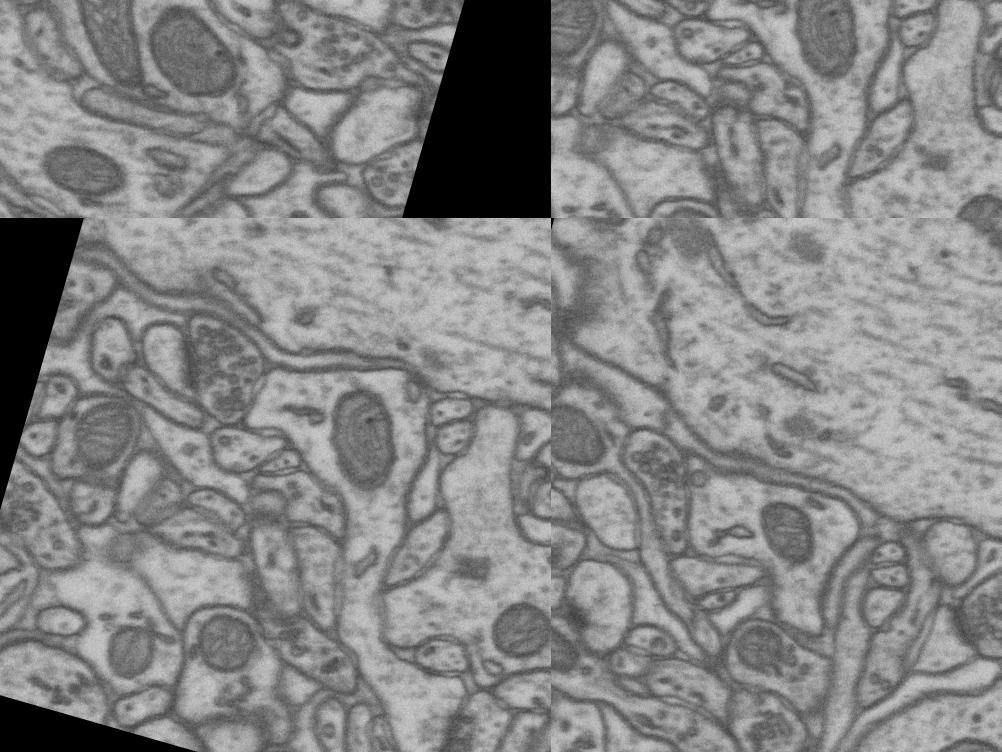mitochondria: (298, 363, 425, 510), (45, 0, 194, 101), (130, 0, 260, 112), (760, 0, 887, 102), (54, 372, 161, 482), (175, 592, 279, 698), (726, 473, 834, 572), (551, 379, 636, 490), (30, 128, 139, 212), (89, 594, 179, 691), (551, 559, 607, 695), (723, 608, 803, 700), (473, 581, 551, 674), (551, 0, 624, 73), (638, 183, 742, 218), (912, 715, 1002, 752), (936, 173, 1002, 218), (552, 185, 642, 218)
